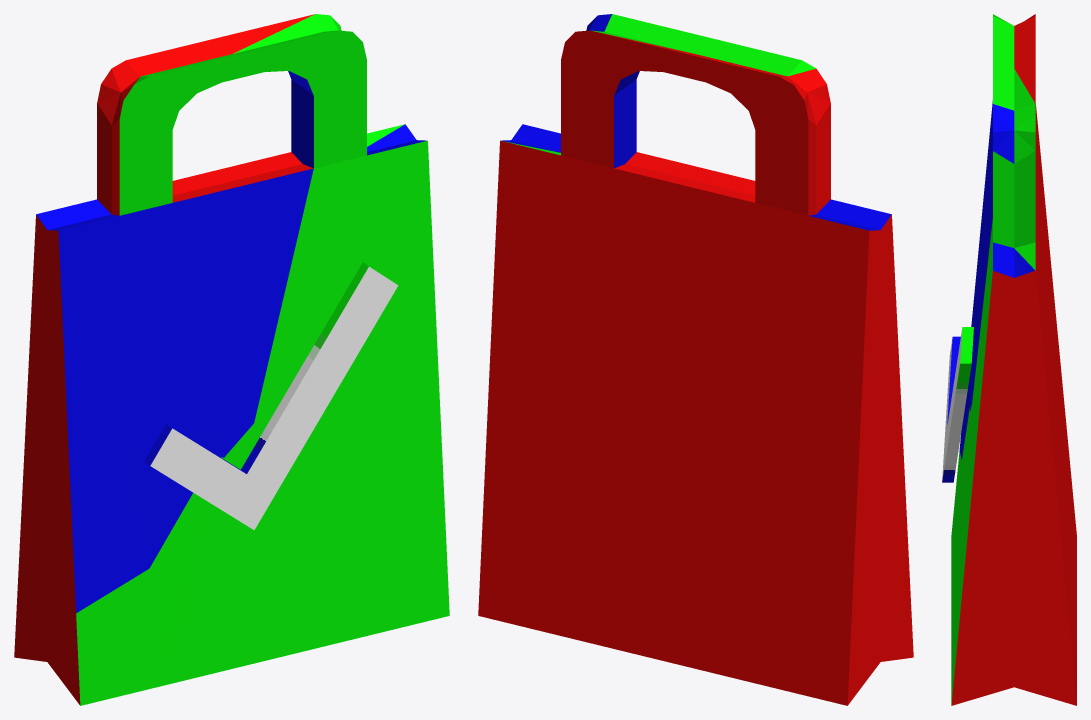
Rendered from base-pay.glb.
The picture shows the model from 3 angles, left to right: view 1: azimuth 30°, elevation 25°; view 2: azimuth 150°, elevation 25°; view 3: azimuth 270°, elevation 25°; orthographic projection. The views are drawn at different scales.
Parts seen in each view (by area): view 1: Base_Pay_2; view 2: Base_Pay_2; view 3: Base_Pay_2.
Part boxes in pixels (x1,y1,x2,y2): Base_Pay_2: (14,14,449,705); Base_Pay_2: (478,14,913,705); Base_Pay_2: (942,14,1076,705).
Size of the model in its own units: 0.9038 by 1.38 by 0.3013.
1 material, 1 textured.
